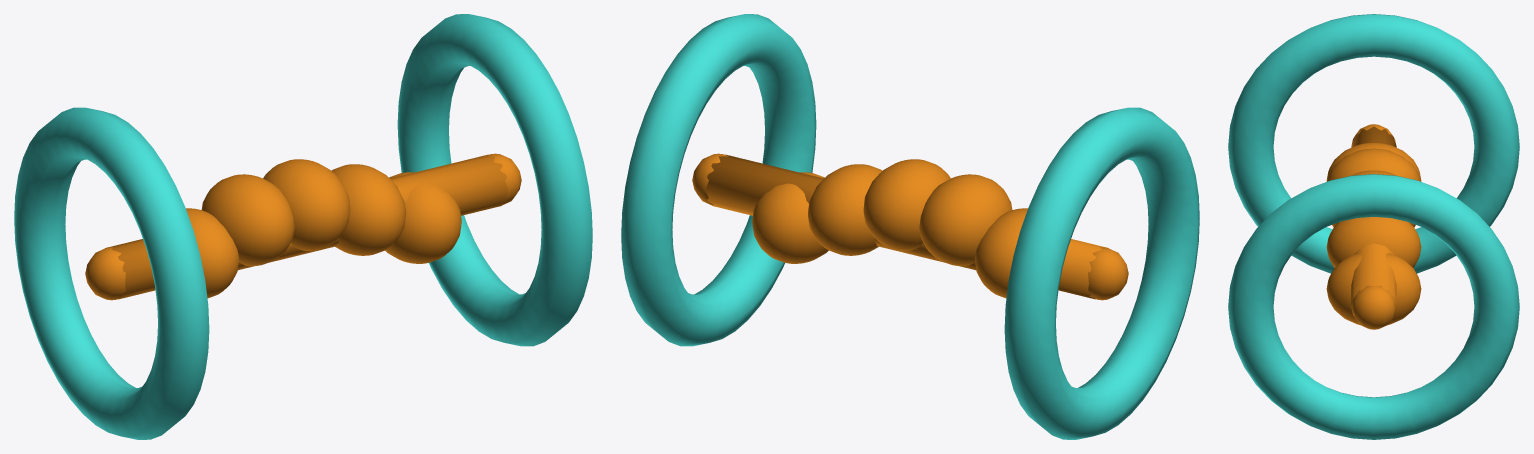
The model's file is BellCollarMoving_Premium.fbx.
The picture shows the model from 3 angles, left to right: view 1: azimuth 30°, elevation 25°; view 2: azimuth 150°, elevation 25°; view 3: azimuth 270°, elevation 25°; orthographic projection. The views are drawn at different scales.
Visible parts, largest first — view 1: BellCollar_Moving; view 2: BellCollar_Moving; view 3: BellCollar_Moving.
Boxes of the visible parts, box(x1,y1,x2,y2) form: BellCollar_Moving: box(14, 14, 592, 439); BellCollar_Moving: box(621, 14, 1199, 439); BellCollar_Moving: box(1228, 14, 1519, 439).
Bounding box in the file's own units: 0.2141 × 0.1472 × 0.1472.
